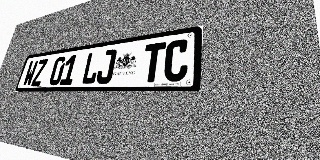0: (48, 56, 67, 85)
1: (59, 54, 79, 85)
C: (162, 38, 190, 82)
J: (95, 49, 117, 84)
L: (80, 51, 102, 84)
T: (140, 42, 166, 83)
W: (22, 60, 39, 86)
Z: (31, 59, 48, 86)
